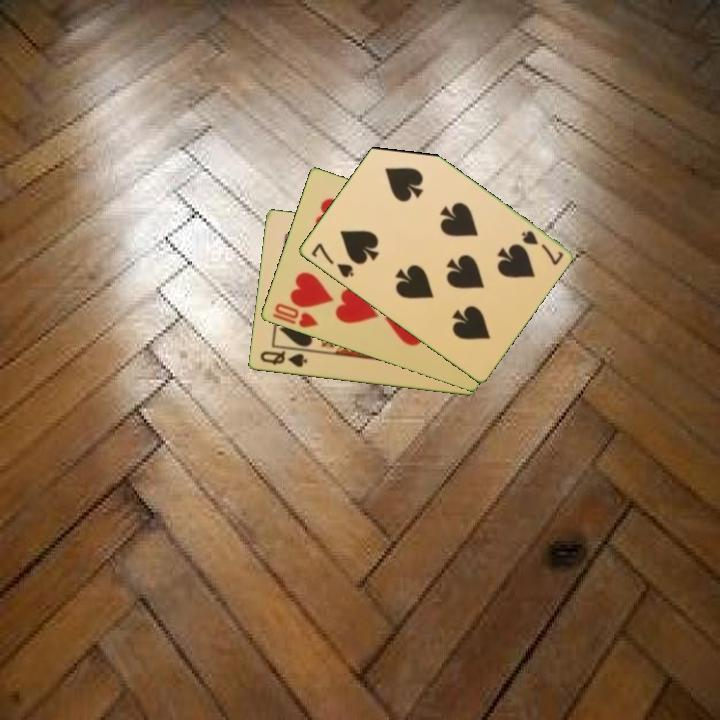10h: (268, 300, 321, 331)
7s: (307, 239, 357, 281), (517, 227, 566, 268)
Qs: (256, 347, 310, 370)
